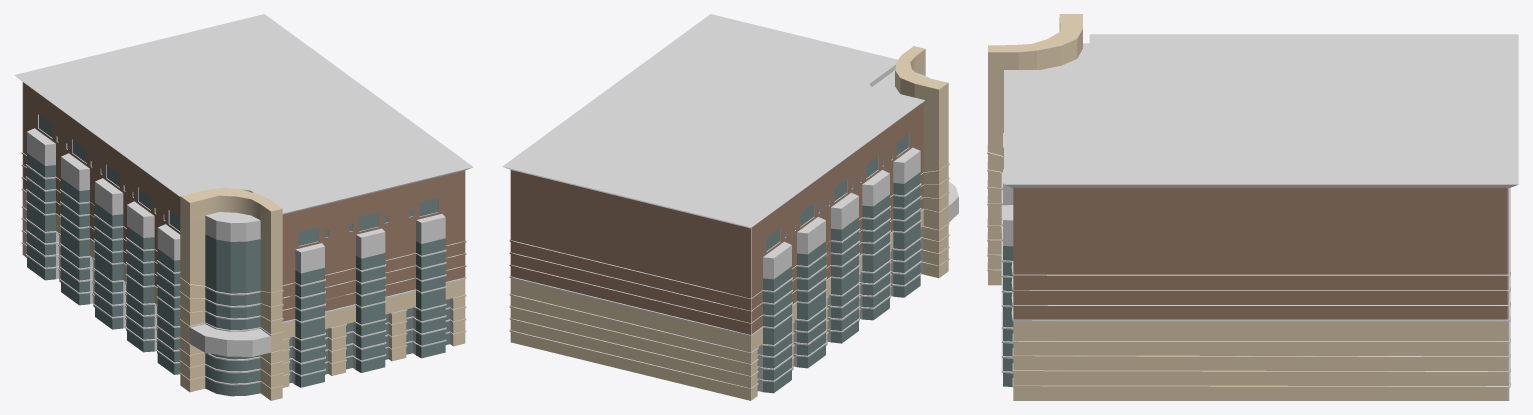
File: universityVillageBookstore (1).fbx
The picture shows the model from 3 angles, left to right: view 1: azimuth 30°, elevation 25°; view 2: azimuth 150°, elevation 25°; view 3: azimuth 270°, elevation 25°; orthographic projection. The views are drawn at different scales.
Visible parts, largest first — view 1: pCube1; view 2: pCube1; view 3: pCube1.
Part boxes in pixels (x1=…): pCube1: x1=14, y1=14, x2=473, y2=400; pCube1: x1=502, y1=14, x2=958, y2=400; pCube1: x1=987, y1=14, x2=1518, y2=400.
Size of the model in its own units: 24.31 by 16.78 by 34.73.
